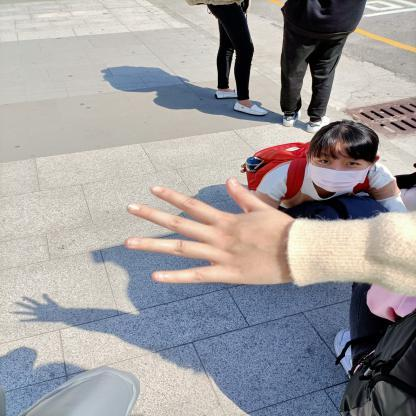bare_hand: (114, 164, 334, 301)
